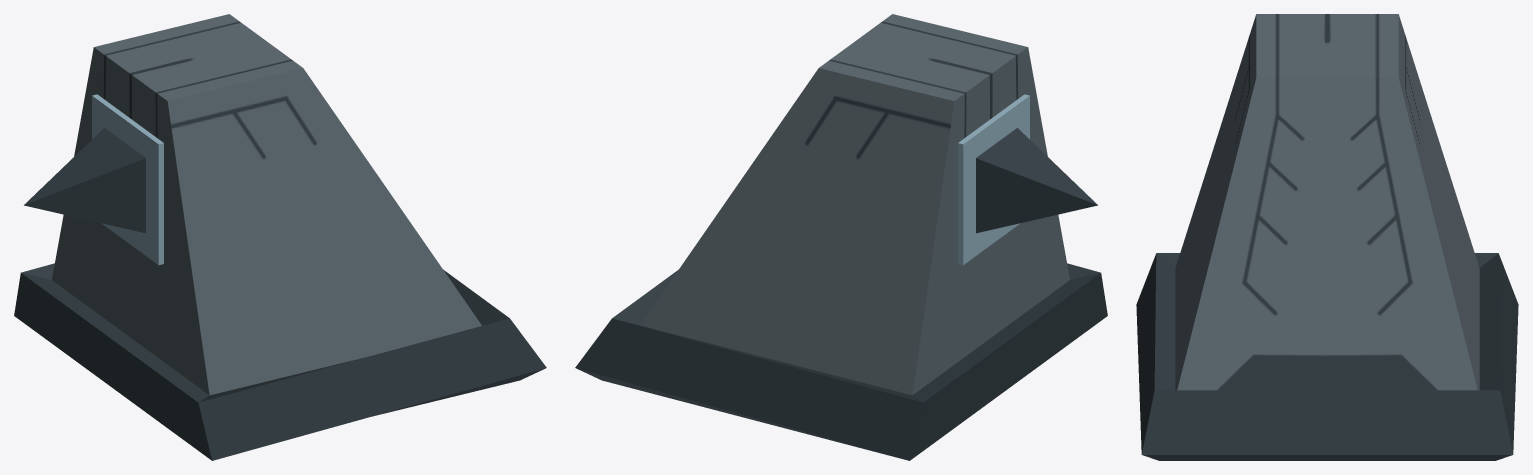
File: Tesla Base.fbx
3 renders of one model, left to right at view 1: azimuth 30°, elevation 25°; view 2: azimuth 150°, elevation 25°; view 3: azimuth 270°, elevation 25°, orthographic. The views are drawn at different scales.
Parts seen in each view (by area): view 1: Cube; view 2: Cube; view 3: Cube.
Boxes of the visible parts, x1,y1,x2,y2 form: Cube: (14,14,546,460); Cube: (575,14,1107,460); Cube: (1136,14,1518,460).
Size of the model in its own units: 283 by 227 by 200.
